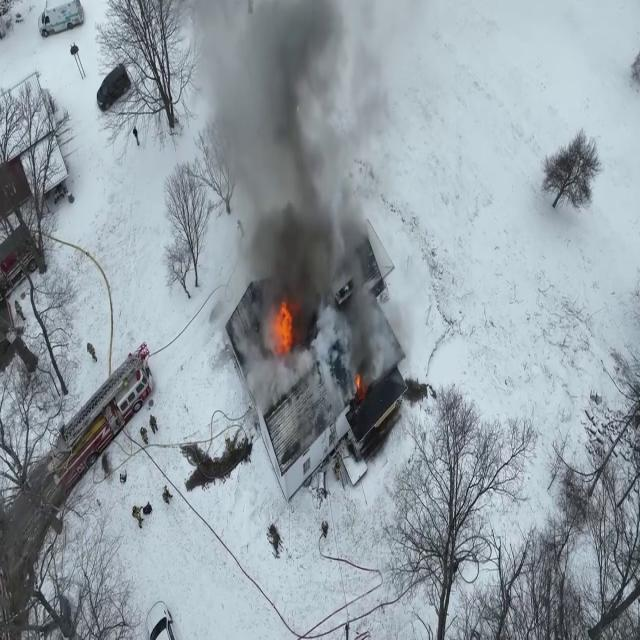Fire: (266, 291, 299, 358)
Smoke: (189, 1, 399, 390)
